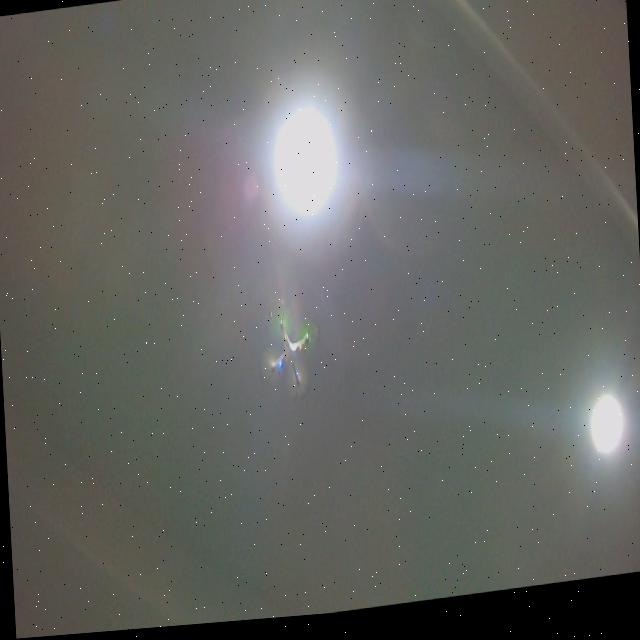drone: (255, 298, 327, 413)
